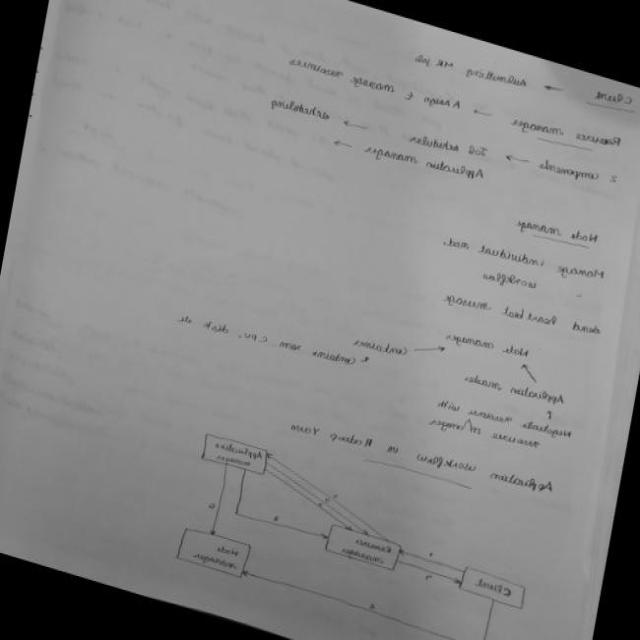Figure Detection - v3 Dataset Version2: (160, 413, 550, 640)
